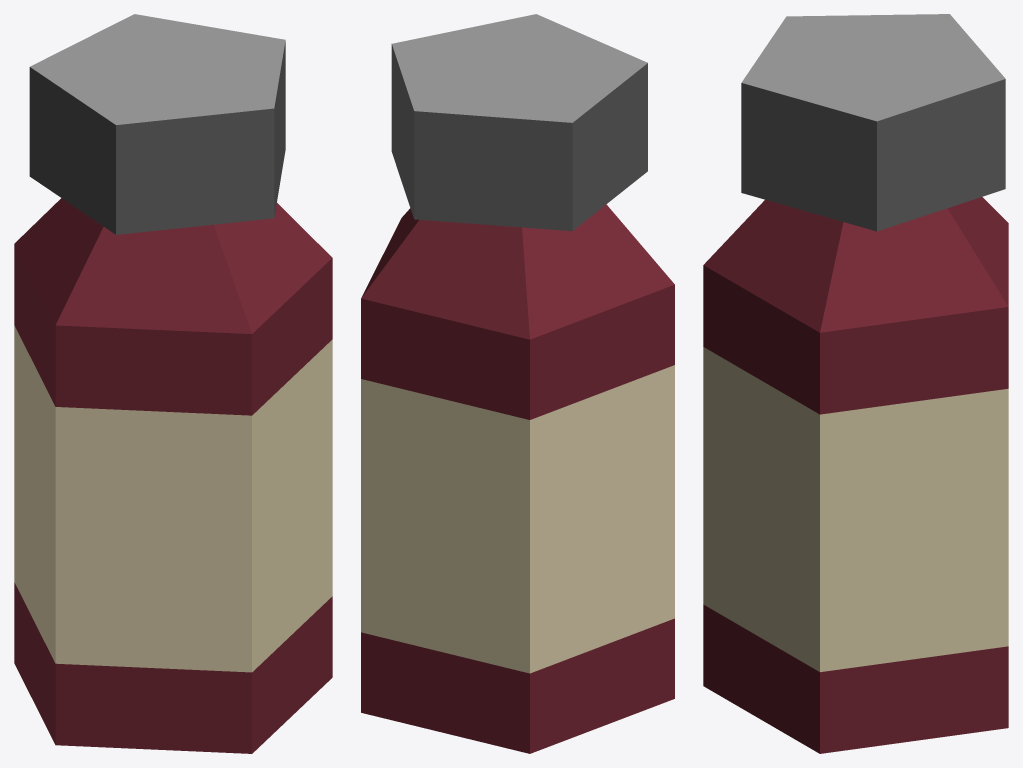
Rendered from TB_D_Prop_Bottle_Small_D.FBX.
3 views of the same model, side by side, from view 1: azimuth 30°, elevation 25°; view 2: azimuth 150°, elevation 25°; view 3: azimuth 270°, elevation 25° (orthographic).
Parts seen in each view (by area): view 1: TB_D_Prop_Bottle_Small_D; view 2: TB_D_Prop_Bottle_Small_D; view 3: TB_D_Prop_Bottle_Small_D.
Part boxes in pixels (x1,y1,x2,y2): TB_D_Prop_Bottle_Small_D: (14,14,332,753); TB_D_Prop_Bottle_Small_D: (361,14,674,753); TB_D_Prop_Bottle_Small_D: (703,14,1008,753).
Size of the model in its own units: 0.2856 by 0.6123 by 0.2716.
